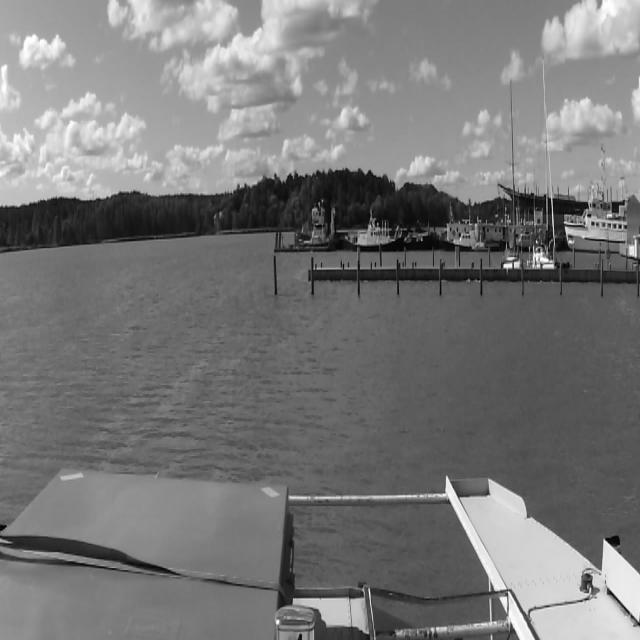ship: (564, 150, 640, 254), (536, 56, 562, 278), (508, 78, 526, 278), (287, 200, 346, 253), (354, 205, 396, 251), (445, 220, 490, 252)
